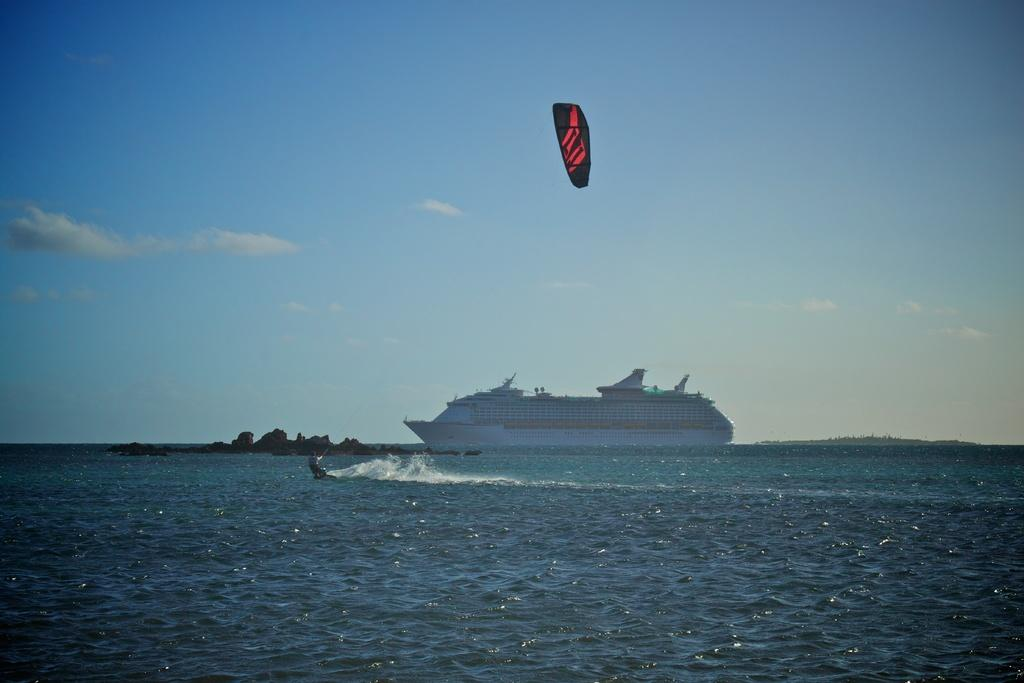PassengerShip: (390, 359, 764, 453)
